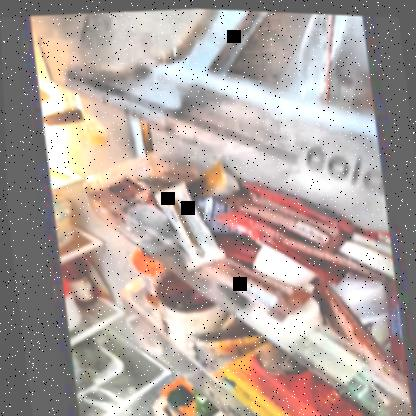butter: (223, 351, 337, 415)
milk: (208, 404, 250, 415)
salami: (66, 2, 237, 81)
